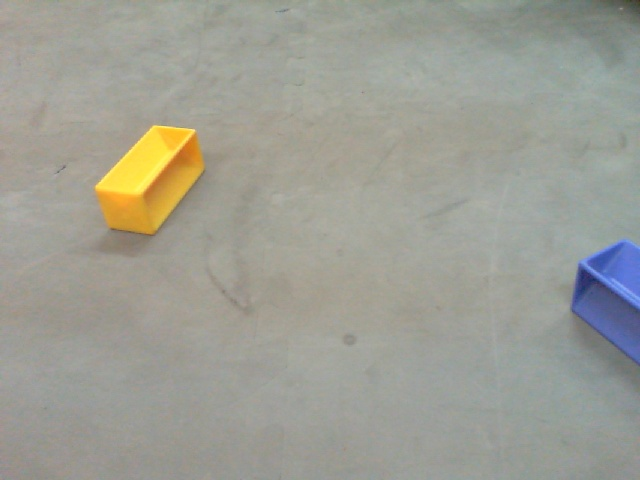BlueSample: (566, 235, 640, 366)
YellowSample: (92, 122, 206, 236)
